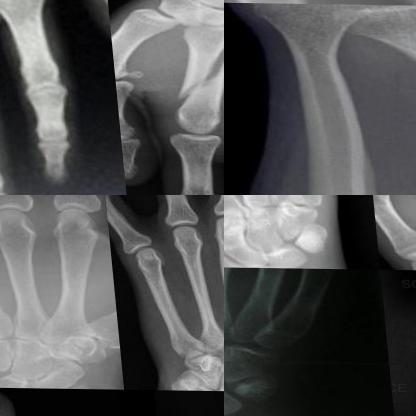fracture: (155, 49, 223, 110)
